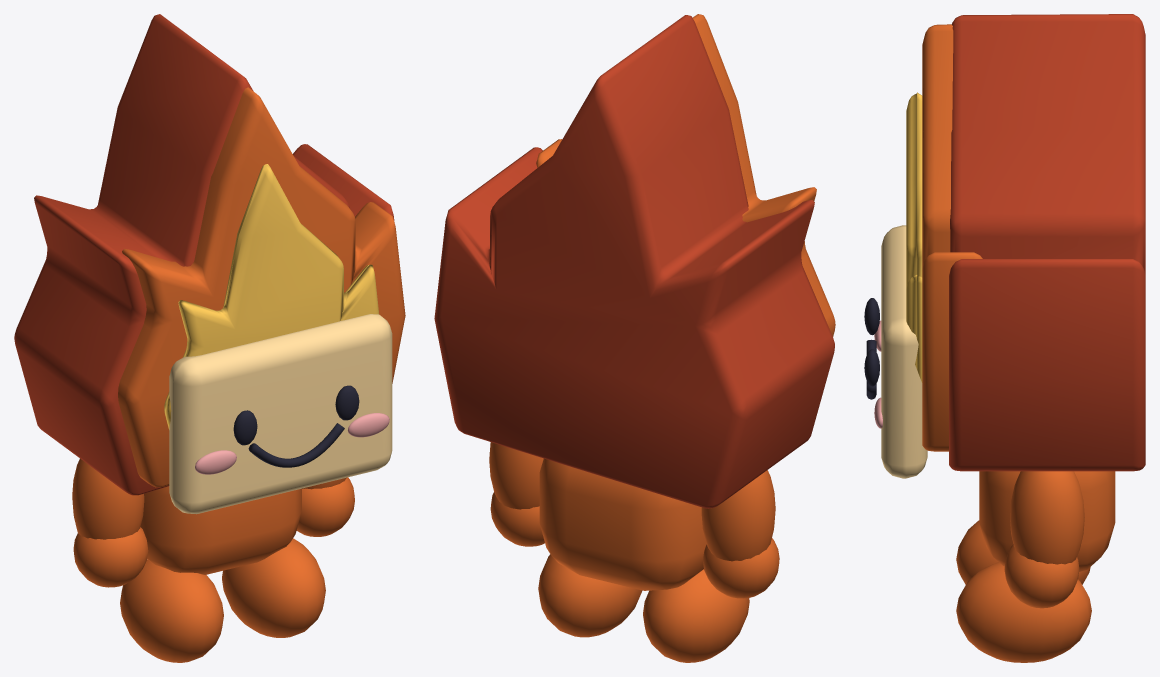
File: fireball.glb
3 views of the same model, side by side, from view 1: azimuth 30°, elevation 25°; view 2: azimuth 150°, elevation 25°; view 3: azimuth 270°, elevation 25° (orthographic). The views are drawn at different scales.
Parts seen in each view (by area): view 1: fireball_Head_Mesh, Ember body, Foot.004, fireball_LeftArm_Mesh, Foot.005, fireball_RightArm_Mesh, fireball_Face_Mesh, fireball_Face_Mouth, fireball_Face_LeftEyeMesh, fireball_Face_RightEyeMesh; view 2: fireball_Head_Mesh, Ember body, fireball_LeftArm_Mesh, Foot.004, Foot.005, fireball_RightArm_Mesh; view 3: fireball_Head_Mesh, fireball_RightArm_Mesh, Foot.005, Ember body, Foot.004, fireball_Face_RightEyeMesh, fireball_Face_LeftEyeMesh.
Boxes of the visible parts, x1,y1,x2,y2 form: fireball_Head_Mesh: (14,14,405,514); Ember body: (140,486,301,574); Foot.004: (120,559,223,662); fireball_LeftArm_Mesh: (72,458,148,587); Foot.005: (222,538,325,637); fireball_RightArm_Mesh: (296,477,354,536); fireball_Face_Mesh: (195,413,389,474); fireball_Face_Mouth: (248,423,344,467); fireball_Face_LeftEyeMesh: (233,410,257,445); fireball_Face_RightEyeMesh: (335,385,359,420); fireball_Head_Mesh: (434,14,835,508); Ember body: (539,458,706,590); fireball_LeftArm_Mesh: (701,470,779,598); Foot.004: (643,569,749,662); Foot.005: (538,554,642,637); fireball_RightArm_Mesh: (489,442,544,546); fireball_Head_Mesh: (881,14,1145,478); fireball_RightArm_Mesh: (1004,471,1084,608); Foot.005: (956,562,1091,662); Ember body: (979,471,1115,571); Foot.004: (956,520,1090,584); fireball_Face_RightEyeMesh: (864,349,879,386); fireball_Face_LeftEyeMesh: (864,298,879,335).
Size of the model in its own units: 1.01 by 1.89 by 0.787.
